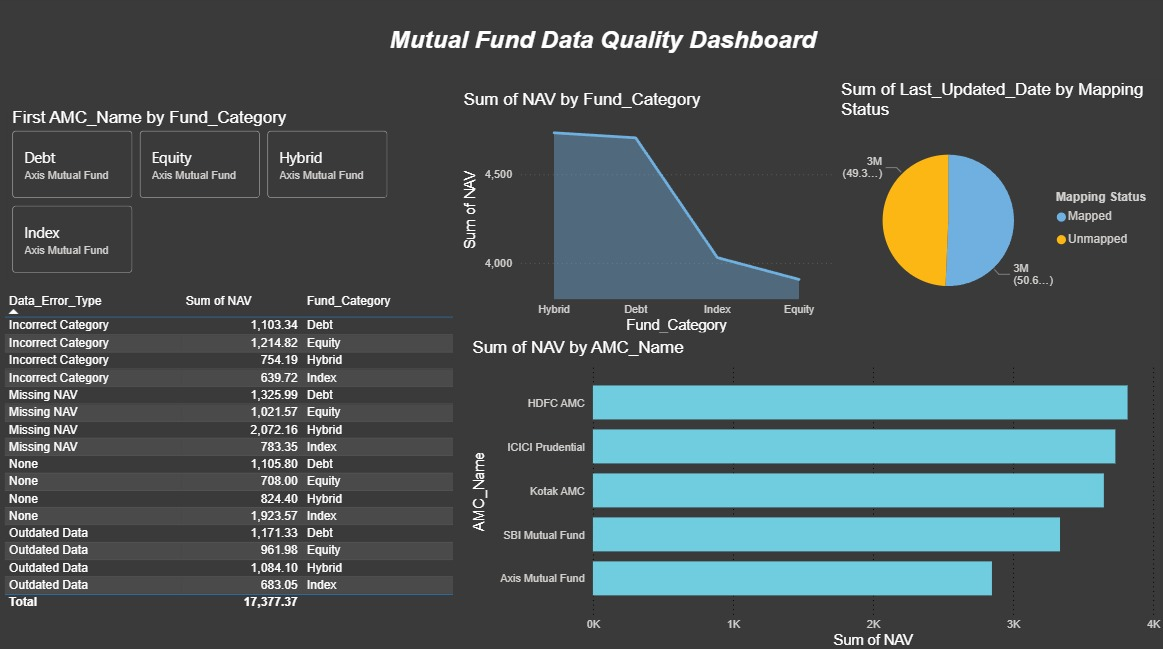

The dashboard page shown, as its layout file describes it:
{"tool":"powerbi","page":{"name":"Page 2","canvas":[1280,720],"ordinal":0},"visuals":[{"type":"tableEx","fields":{"Values":["Mutual_Fund_Data.Data_Error_Type","Sum(Mutual_Fund_Data.NAV)","Mutual_Fund_Data.Fund_Category"]},"box":[0,321.1,505,359.5],"z":0},{"type":"clusteredBarChart","fields":{"Category":["Mutual_Fund_Data.AMC_Name"],"Y":["Sum(Mutual_Fund_Data.NAV)"]},"box":[514.6,374.6,765.7,345.8],"z":1000},{"type":"stackedAreaChart","fields":{"Category":["Mutual_Fund_Data.Fund_Category"],"Y":["Sum(Mutual_Fund_Data.NAV)"]},"box":[505,102.9,414.4,271.7],"z":2000},{"type":"pieChart","fields":{"Category":["Mutual_Fund_Data.Mapping_Status"],"Y":["Sum(Mutual_Fund_Data.Last_Updated_Date)"]},"box":[919.4,91.9,360.9,267.6],"z":3000},{"type":"textbox","box":[410.3,28.8,505,48],"z":4000},{"type":"advancedSlicerVisual","fields":{"Values":["Mutual_Fund_Data.Fund_Category"],"Label":["Min(Mutual_Fund_Data.AMC_Name)"]},"box":[9.6,122.1,424,188],"z":4001}]}

Visuals, with their boxes in screenshot pixels (x1, y1, x2, y2), scaled from the page's 1280x720 canvas onto the 1163x649 screenshot:
tableEx - Mutual_Fund_Data.Data_Error_Type x Sum(Mutual_Fund_Data.NAV): 0 289 459 613
clusteredBarChart - Mutual_Fund_Data.AMC_Name x Sum(Mutual_Fund_Data.NAV): 468 338 1162 648
stackedAreaChart - Mutual_Fund_Data.Fund_Category x Sum(Mutual_Fund_Data.NAV): 459 93 835 338
pieChart - Mutual_Fund_Data.Mapping_Status x Sum(Mutual_Fund_Data.Last_Updated_Date): 835 83 1162 324
textbox: 373 26 832 69
advancedSlicerVisual - Mutual_Fund_Data.Fund_Category x Min(Mutual_Fund_Data.AMC_Name): 9 110 394 280
